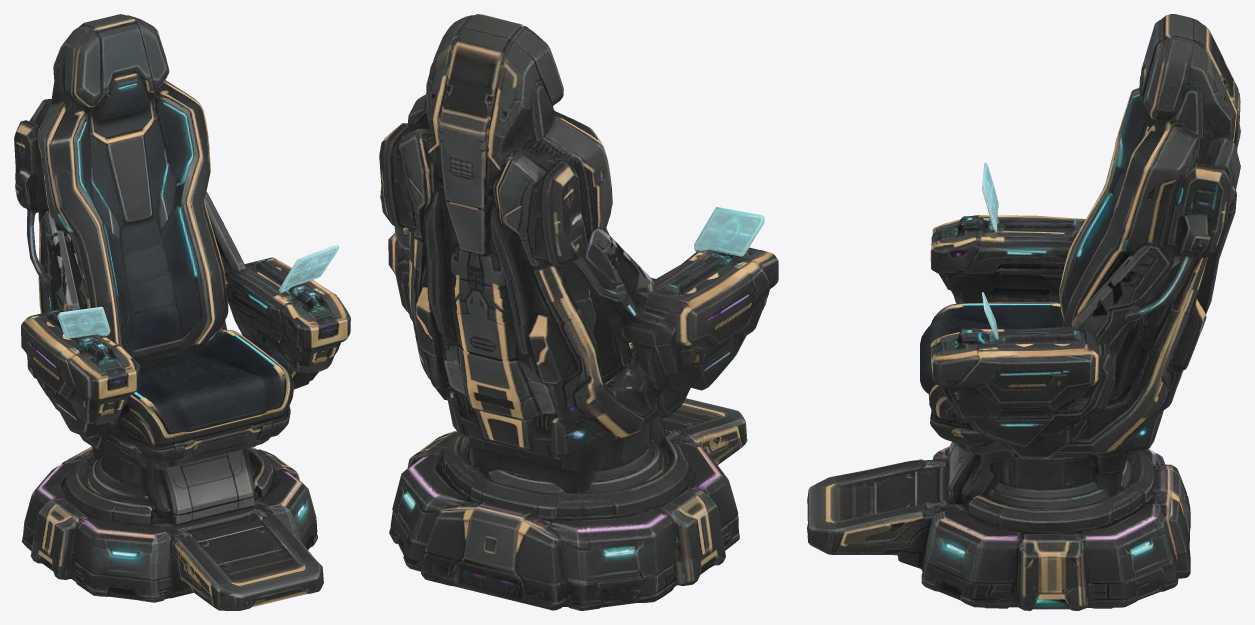
The model's file is eoncity_command_chair.1f42888eb2ad.glb.
3 views of the same model, side by side, from view 1: azimuth 30°, elevation 25°; view 2: azimuth 150°, elevation 25°; view 3: azimuth 270°, elevation 25° (orthographic). The views are drawn at different scales.
Parts seen in each view (by area): view 1: Mesh1.0; view 2: Mesh1.0; view 3: Mesh1.0.
Part boxes in pixels (x1,y1,x2,y2): Mesh1.0: (14,14,350,610); Mesh1.0: (379,14,778,610); Mesh1.0: (807,14,1240,610).
Bounding box in the file's own units: 1.16 × 1.9 × 1.42.
Materials: 1 (1 with a texture image).
